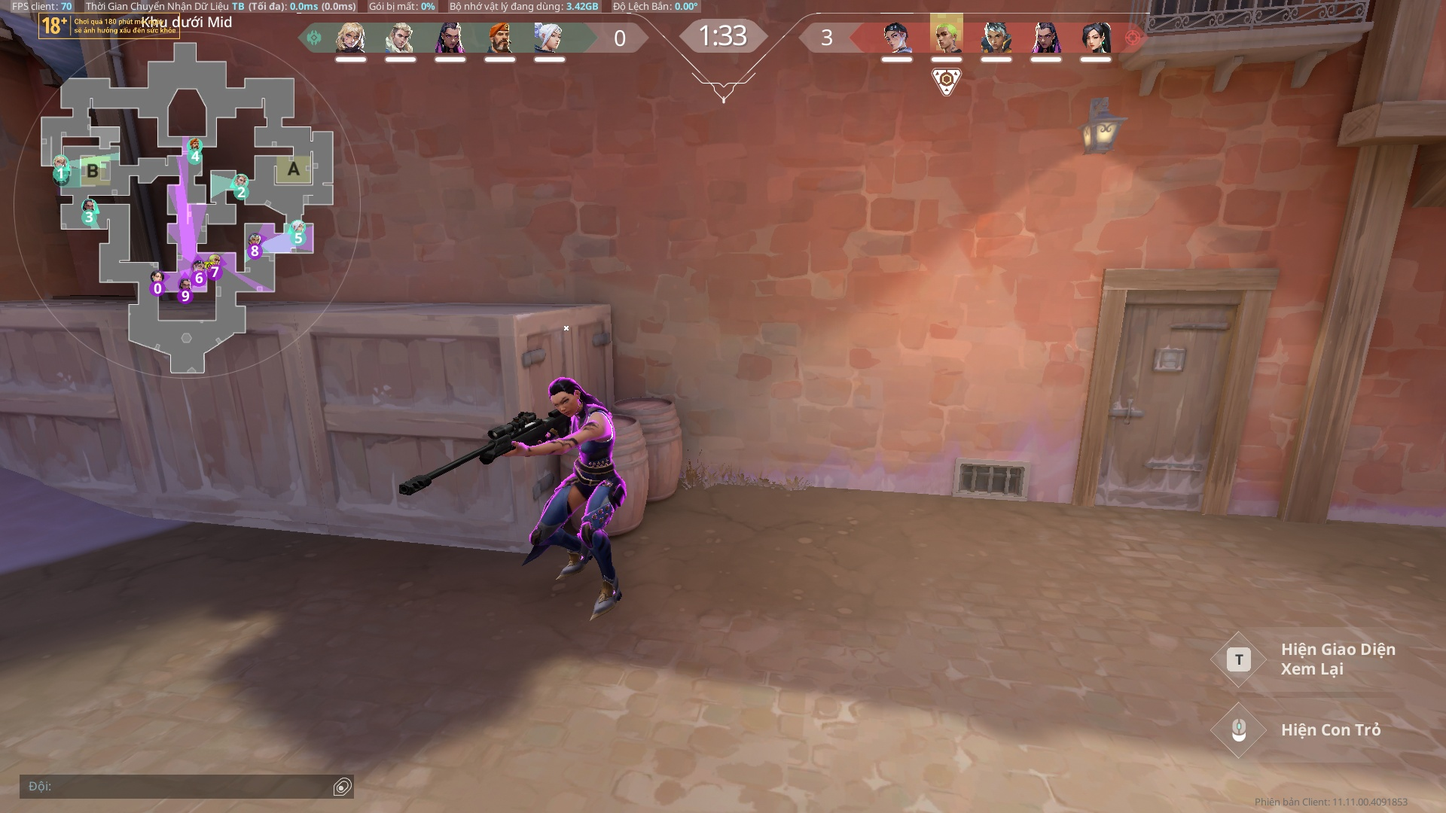body: (565, 406, 618, 463)
head: (548, 377, 587, 415)
